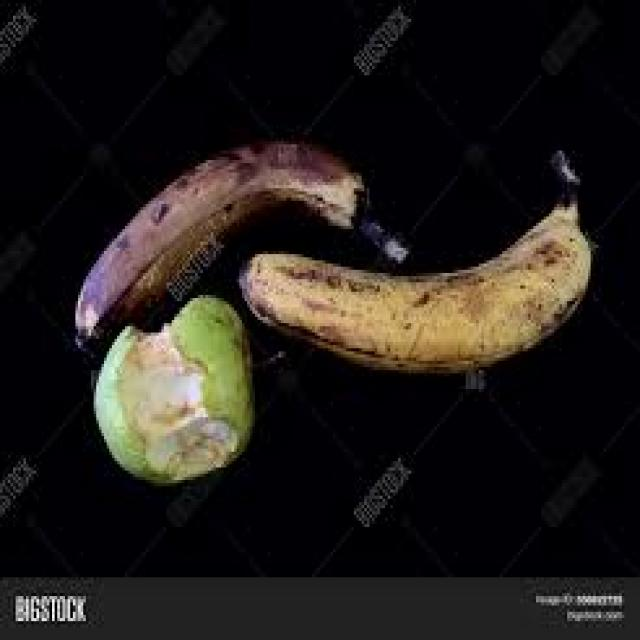organic waste: (229, 144, 591, 370), (68, 135, 408, 354), (86, 289, 281, 480)
